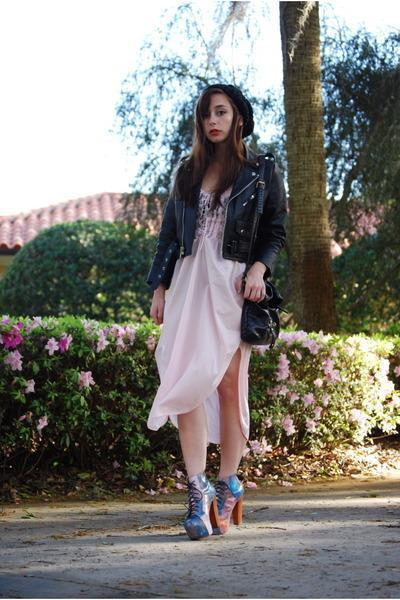bag: (235, 276, 286, 347)
dress: (147, 183, 249, 443)
hat: (197, 84, 261, 142)
jacket: (151, 156, 288, 290)
shoe: (169, 468, 251, 540)
